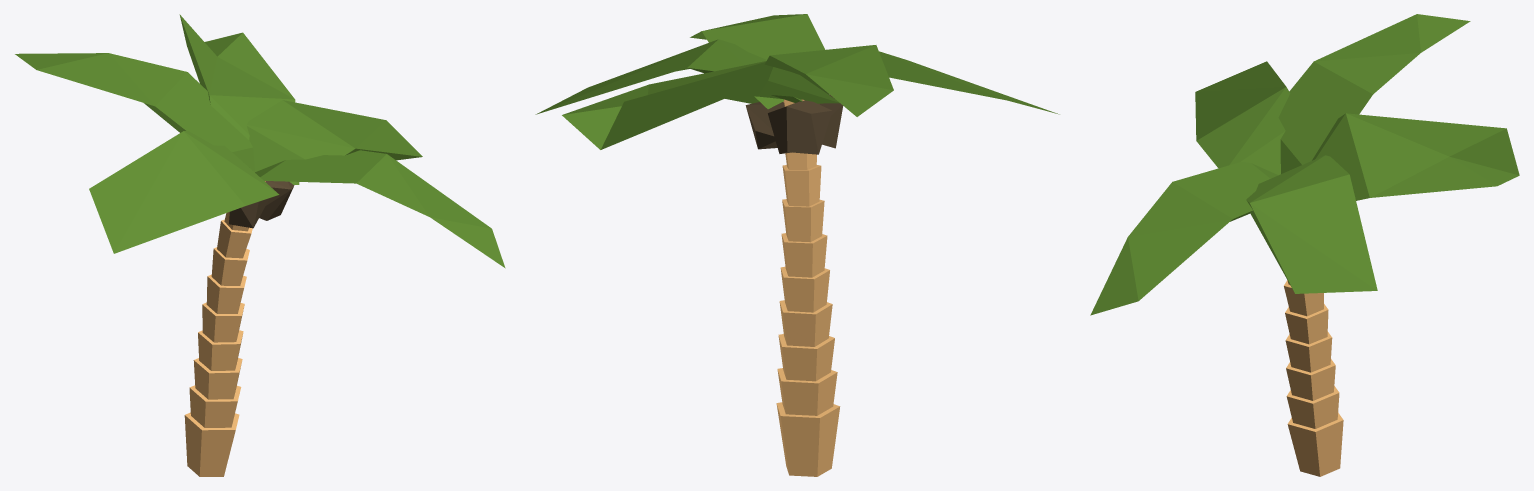
File: palm_tree.obj
3 views of the same model, side by side, from view 1: azimuth 30°, elevation 25°; view 2: azimuth 150°, elevation 25°; view 3: azimuth 270°, elevation 25° (orthographic). The views are drawn at different scales.
Parts seen in each view (by area): view 1: main_palm.002_leaf, main_palm.002_wood, main_palm.002_coconut; view 2: main_palm.002_leaf, main_palm.002_wood, main_palm.002_coconut; view 3: main_palm.002_leaf, main_palm.002_wood.
Boxes of the visible parts, left/top/right/bottom form: main_palm.002_leaf: left=15, top=14, right=505, bottom=268; main_palm.002_wood: left=184, top=181, right=265, bottom=476; main_palm.002_coconut: left=229, top=181, right=294, bottom=228; main_palm.002_leaf: left=535, top=14, right=1059, bottom=149; main_palm.002_wood: left=776, top=99, right=840, bottom=476; main_palm.002_coconut: left=745, top=94, right=842, bottom=154; main_palm.002_leaf: left=1090, top=14, right=1519, bottom=315; main_palm.002_wood: left=1284, top=280, right=1343, bottom=476.
Size of the model in its own units: 5.96 by 6.18 by 6.1.
